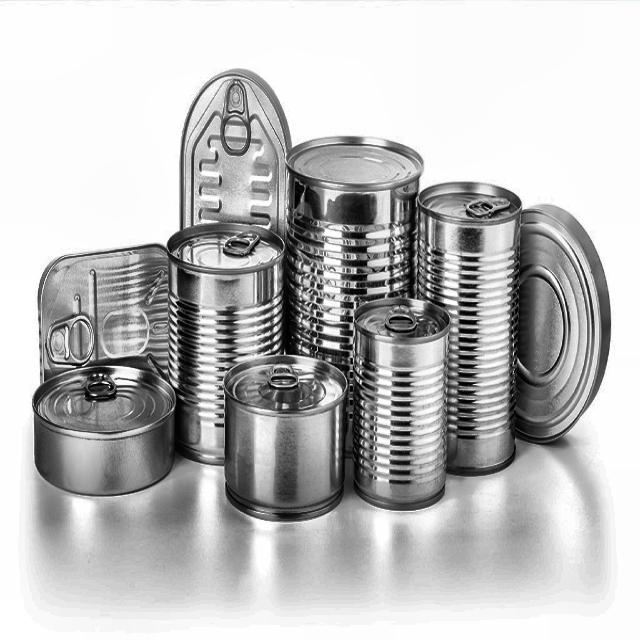can: (285, 133, 427, 460), (163, 212, 288, 468), (416, 172, 520, 477), (515, 196, 614, 452), (178, 64, 296, 270), (219, 348, 349, 530), (24, 351, 180, 500), (351, 294, 450, 514), (36, 234, 179, 386)
